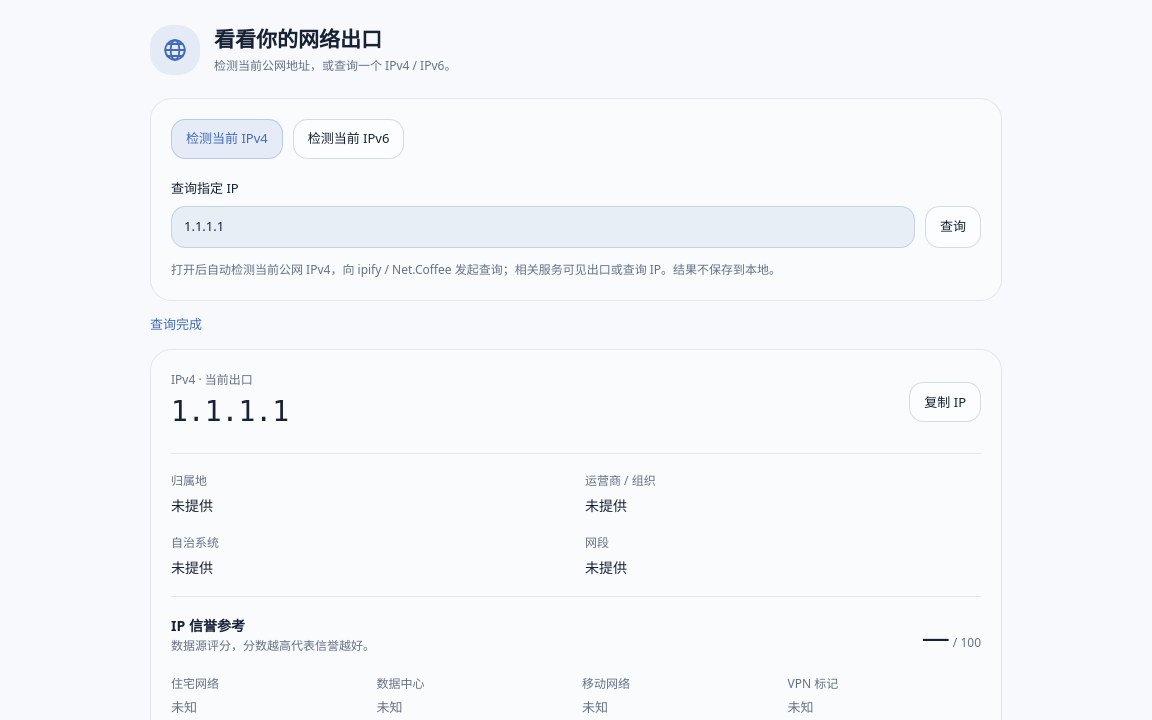
Test: IP detection panel › still validates manual input locally after the automatic query
Replace the text in the field labelled "查询指定 IP" with "example.com" at (543, 227), box [171, 206, 915, 248]
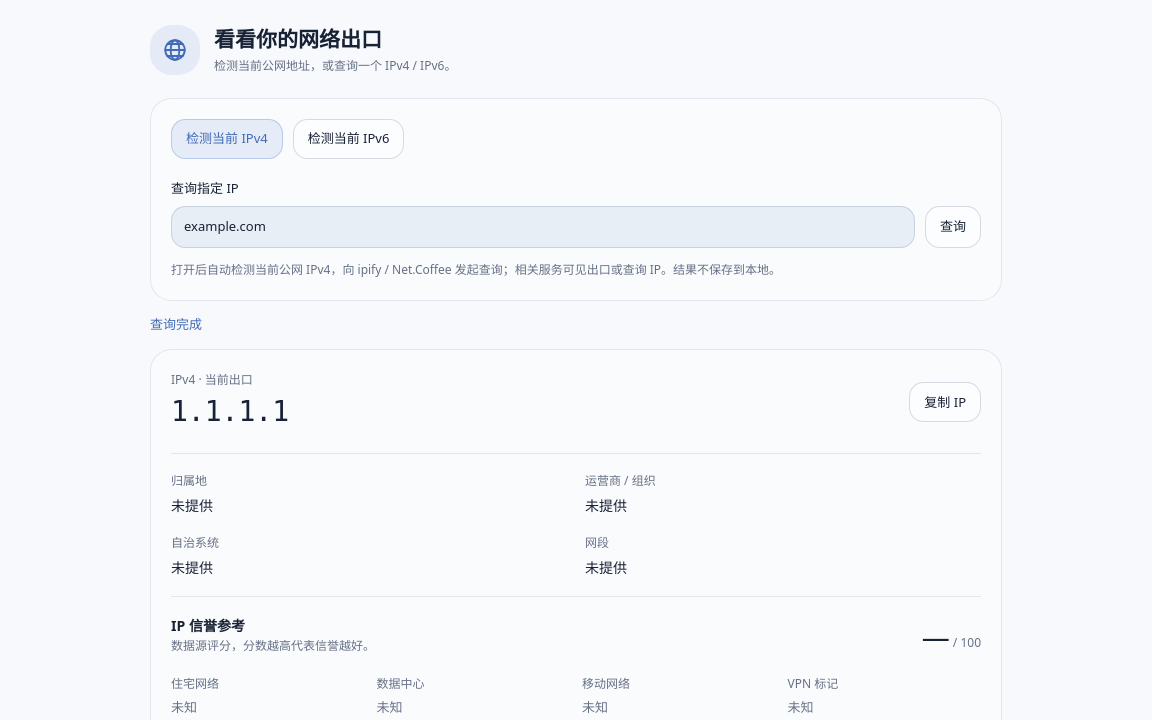
Submit the form, box [171, 179, 981, 248]
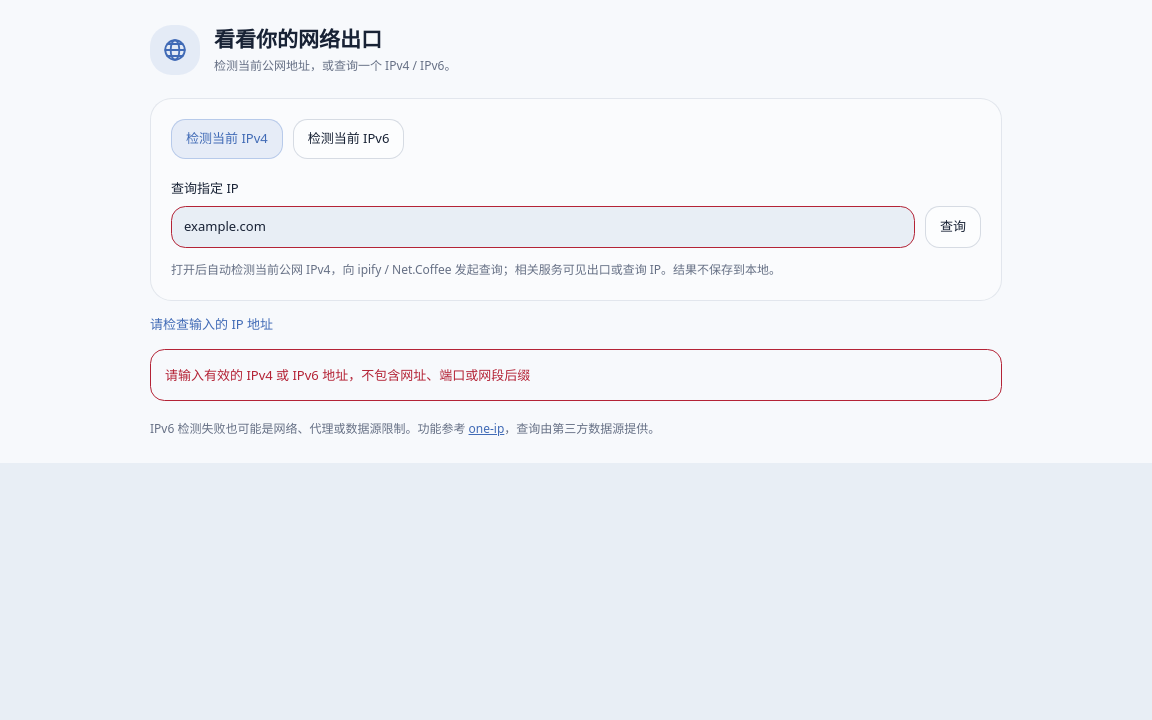
Expected: the message "请输入有效的 IPv4 或 IPv6 地址，不包含网址、端口或网段后缀" is shown, [150, 349, 1002, 401]
